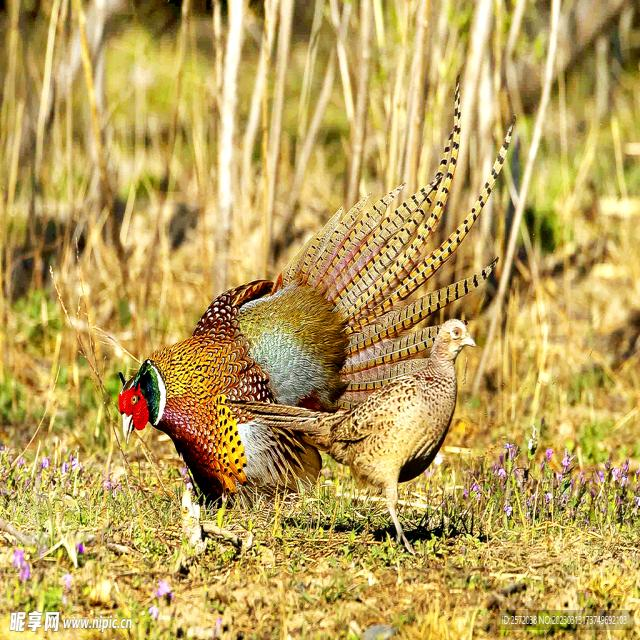Phasianus Colchicus: (280, 73, 519, 408)
